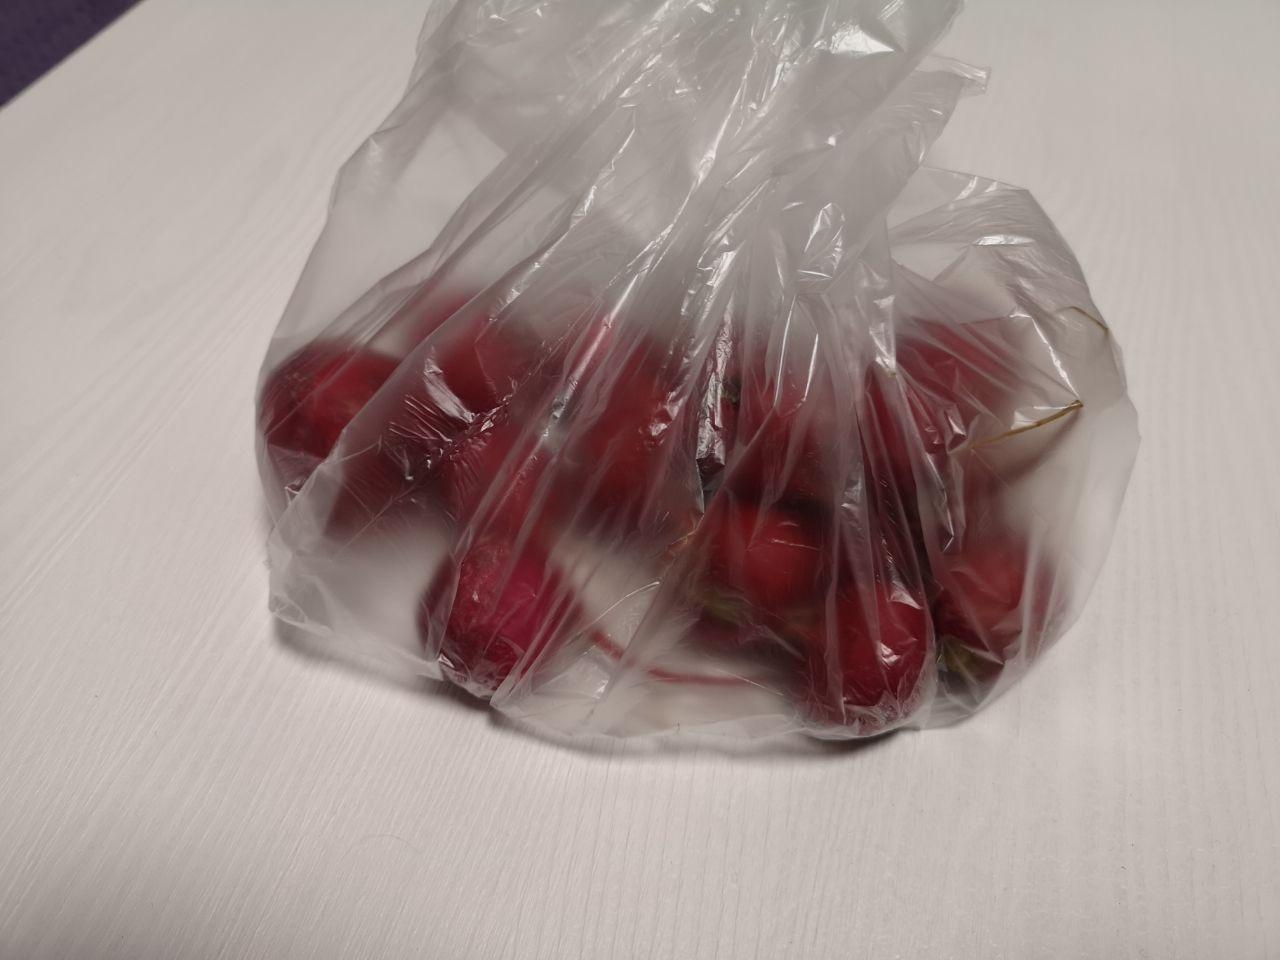redish: (220, 149, 1145, 815)
